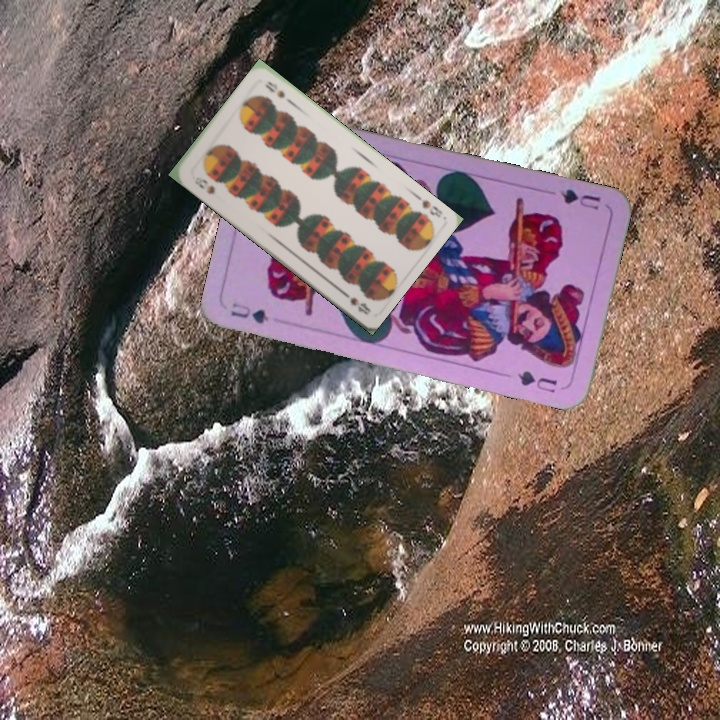GU: (555, 185, 603, 213), (226, 298, 271, 327)
S8: (418, 196, 445, 220), (190, 175, 218, 197)
